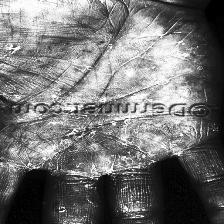Non-Cancerous Skin Condition: (0, 30, 205, 102), (18, 118, 208, 154), (46, 162, 90, 224), (113, 168, 156, 224)
